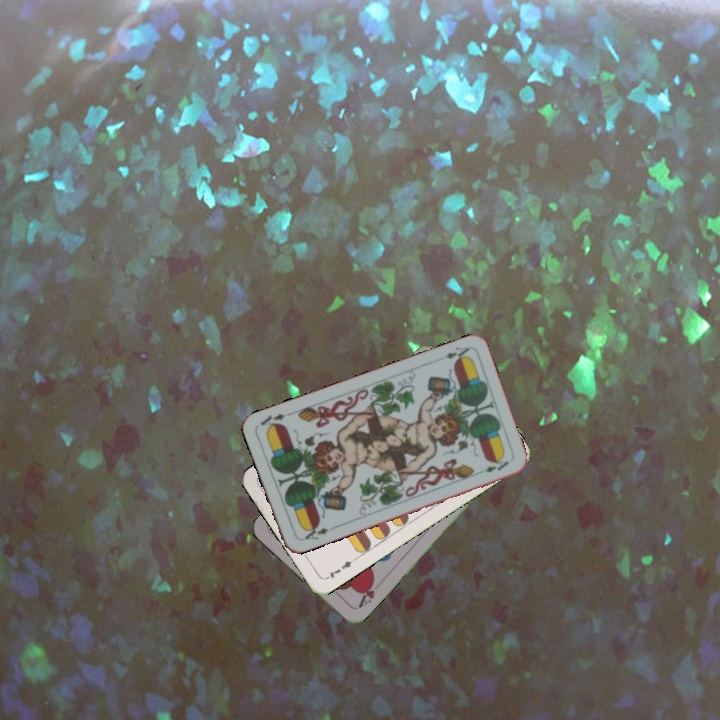E7: (321, 555, 358, 582)
EA: (297, 521, 332, 543), (441, 343, 472, 364)
HA: (354, 575, 384, 611)
